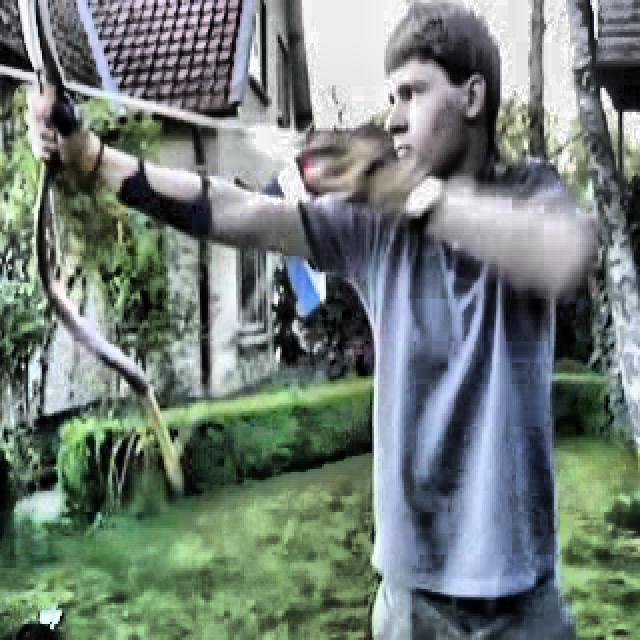P: (30, 9, 592, 633)
